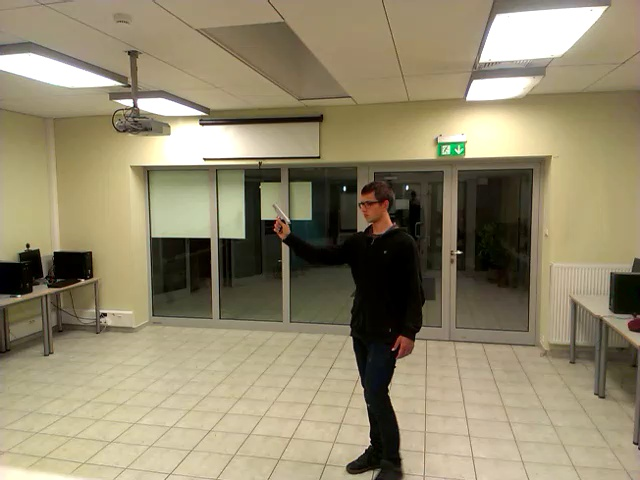gun: (261, 193, 301, 256)
